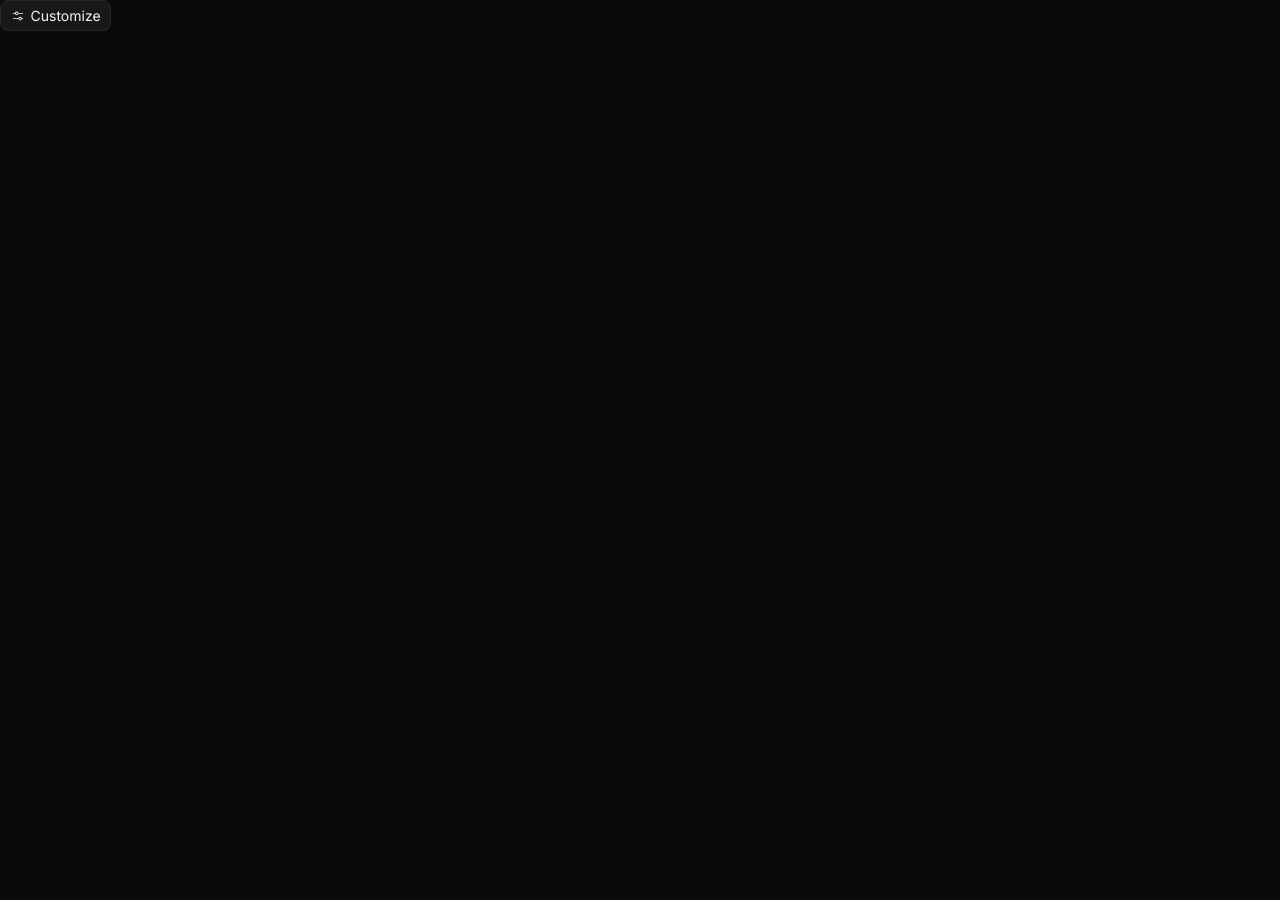
Test: GraphCustomization › customization labels and tooltips
The width and height of the screenshot is (1280, 900).
Click the button "Customize": (56, 16) [0, 0, 111, 31]
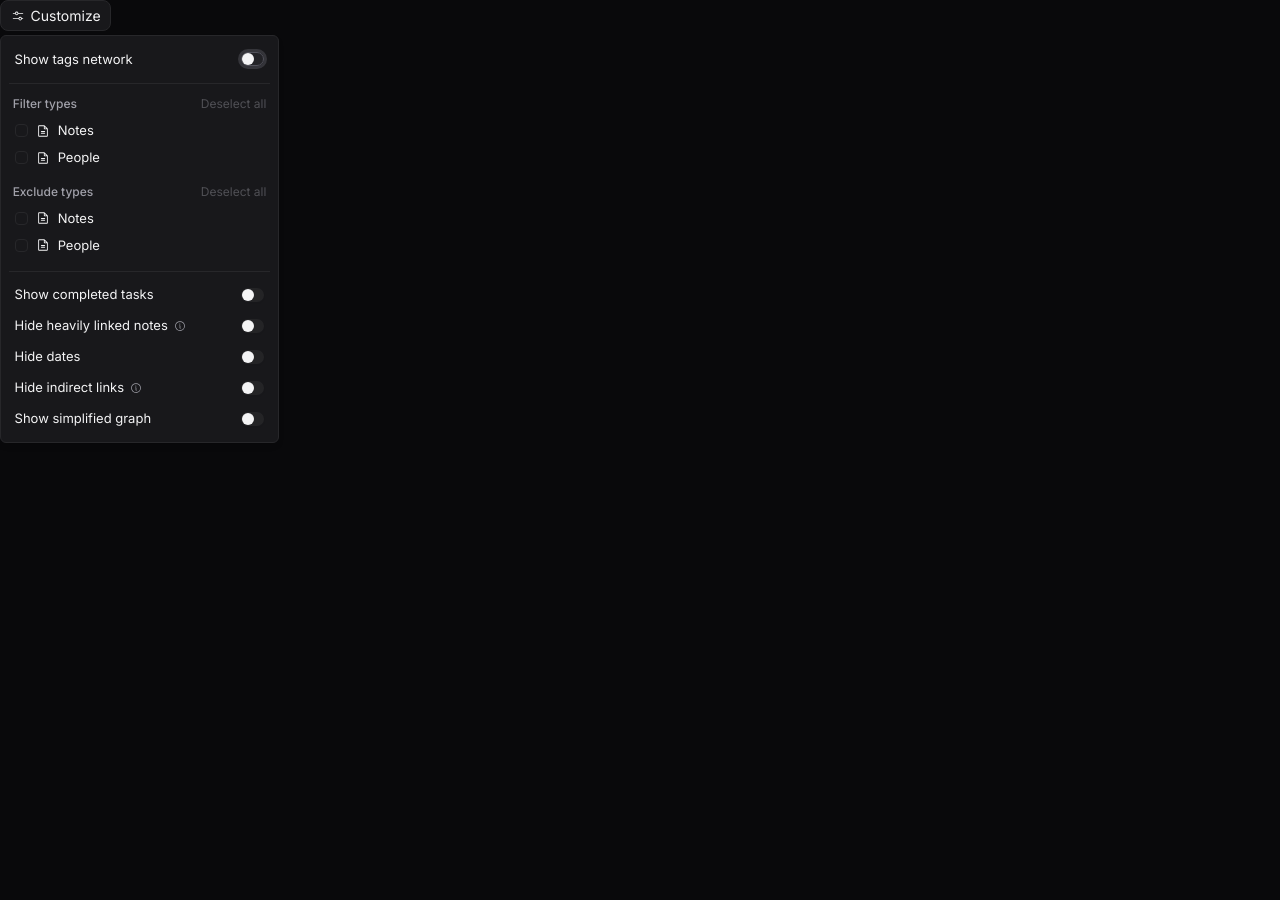
expect the element "Filter types" is shown: met, box [9, 95, 270, 171]
expect the element "Exclude types" is shown: met, box [9, 183, 270, 259]
expect the number of buttons "Deselect all" is 2: met, box [201, 95, 266, 113]; [201, 183, 266, 201]
